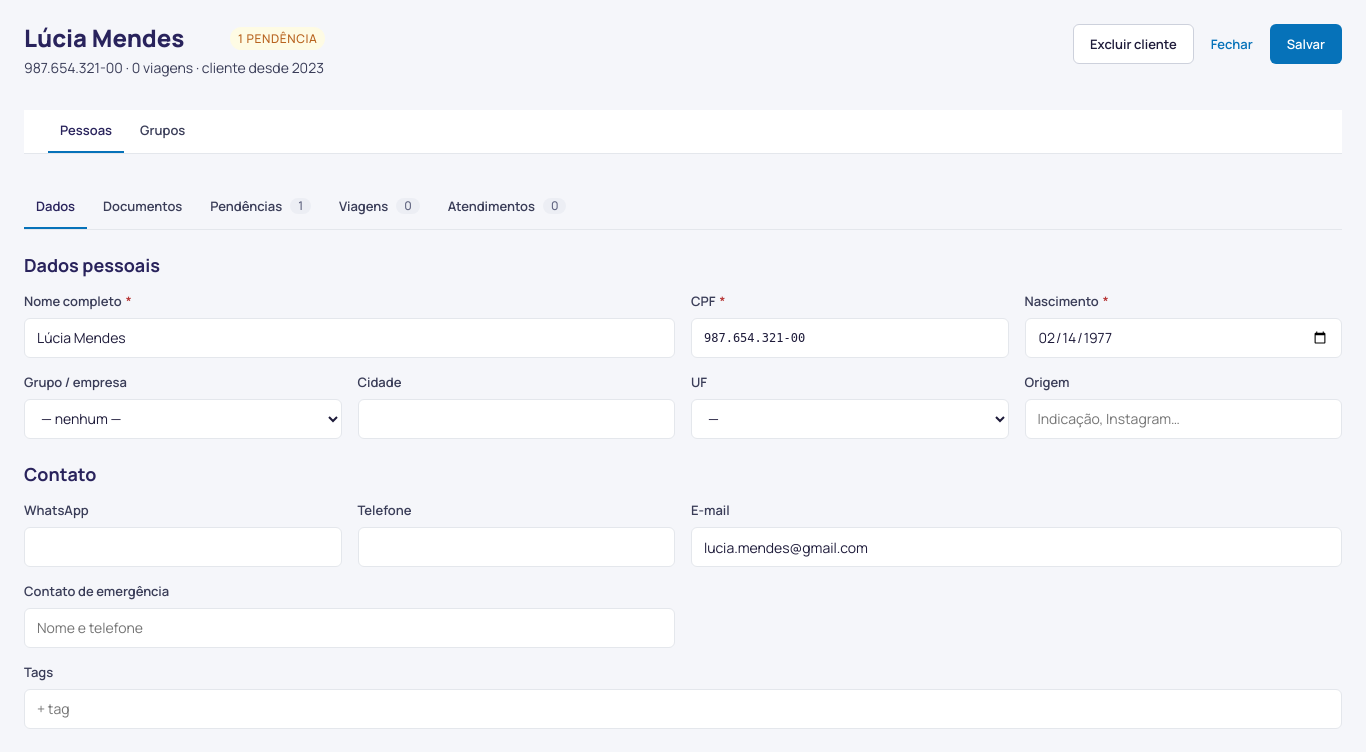
Scenario: pessoa existente: e-mail alterado vai no PUT e o form mostra o valor da resposta (ALT-02)
Step 1. Replace the text in the field showing "lucia.mendes@gmail.com" with "lucia.nova@gmail.com" → (1016, 547), box [691,527,1342,567]
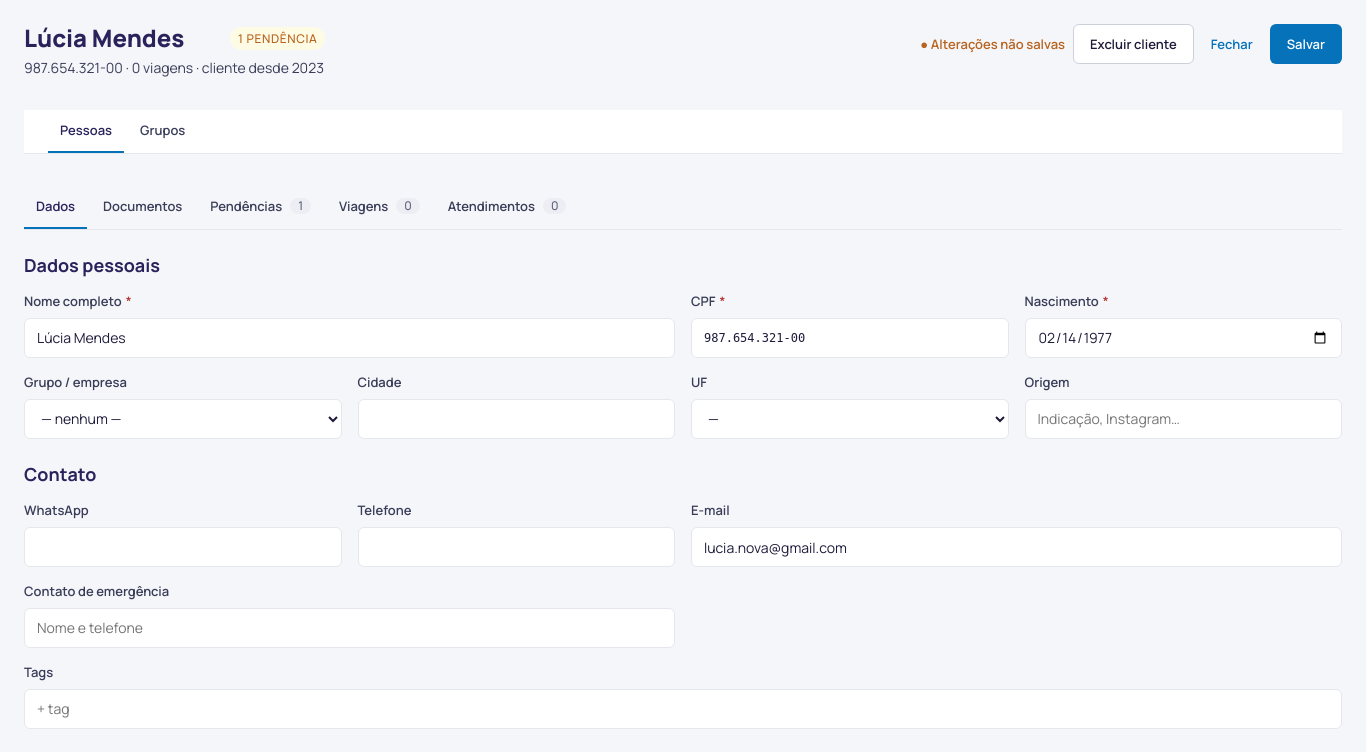
Step 2. Press s
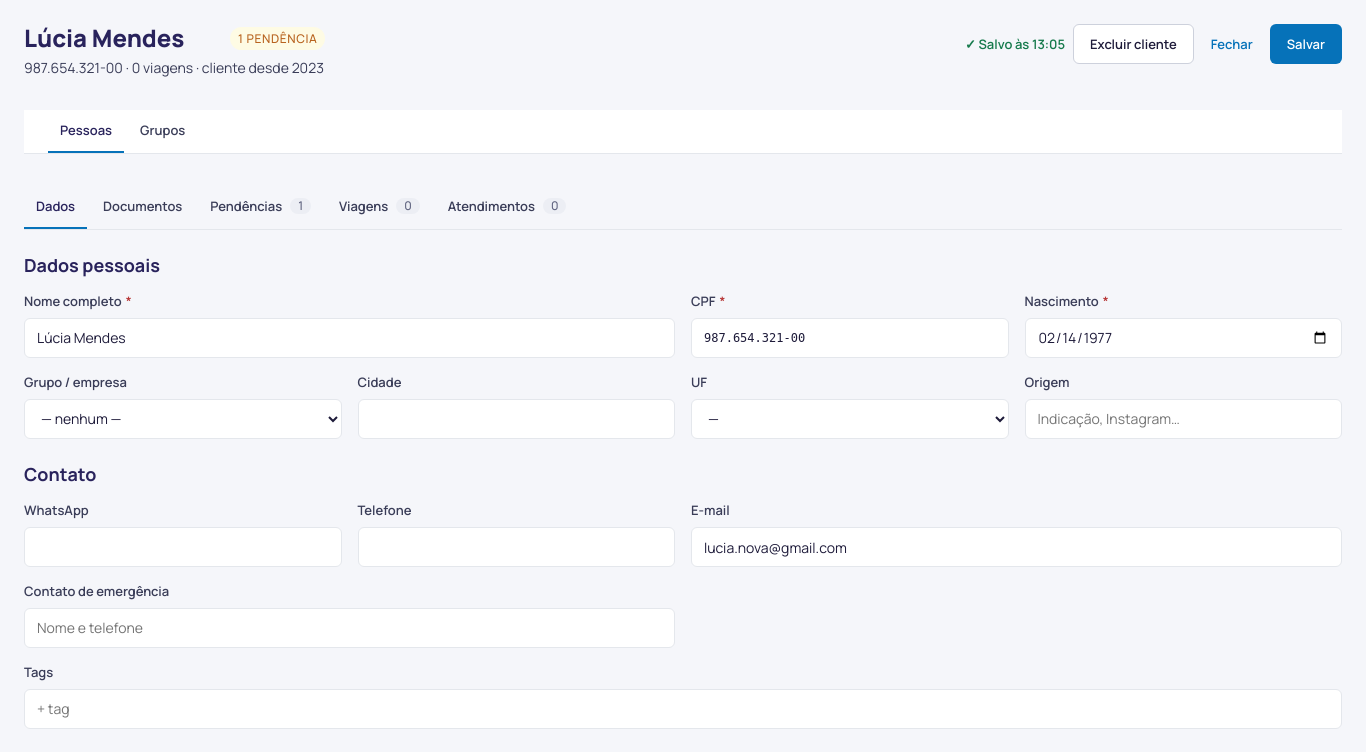
Expected: the text "✓ Salvo às 13:05" is shown, [965,36,1065,52]
